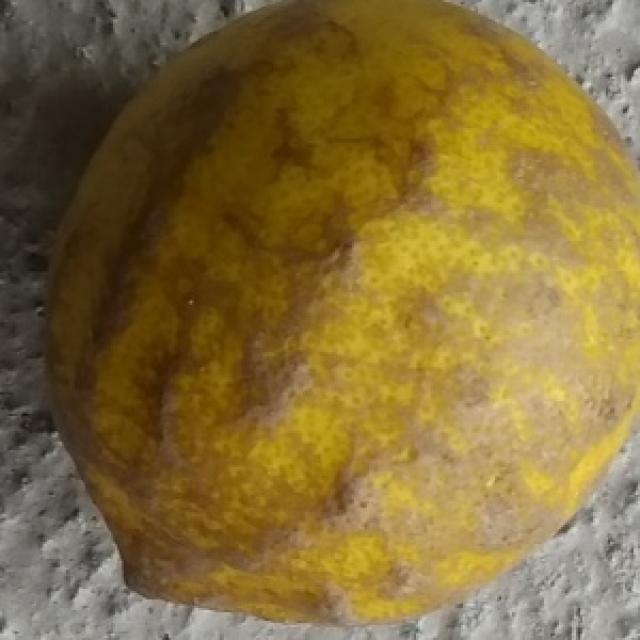overripe: (32, 0, 640, 629)
